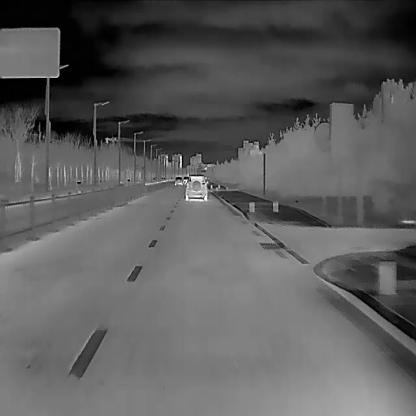car: (185, 174, 207, 201), (174, 176, 182, 186), (183, 176, 188, 184)
